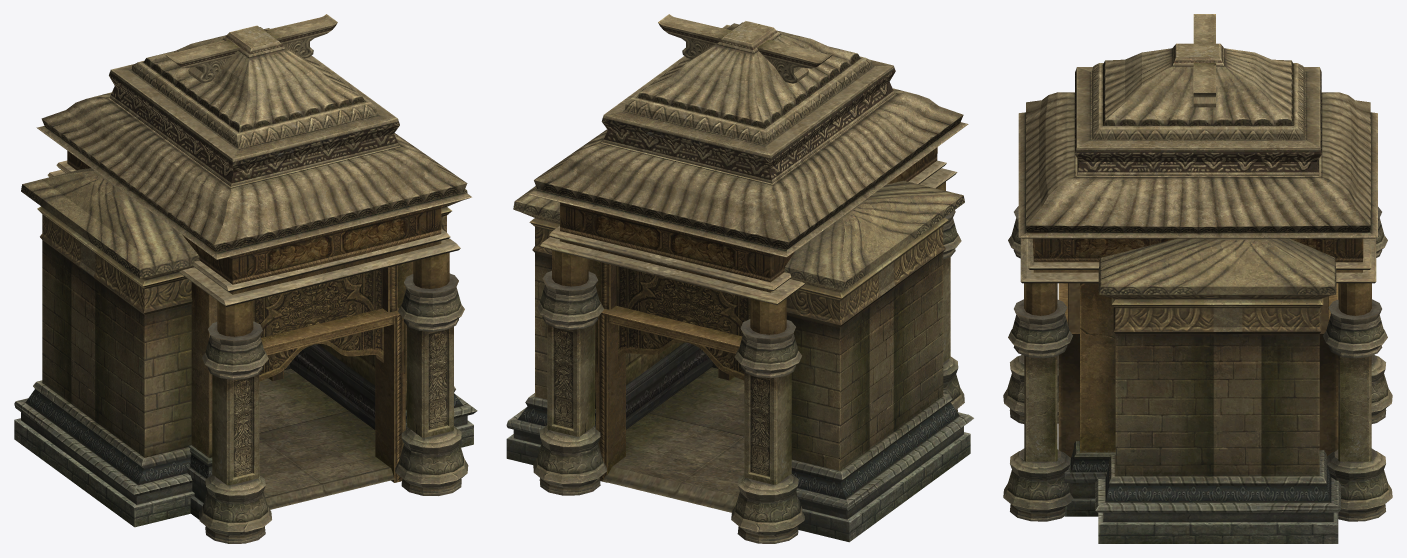
Rendered from thunder_ruins_gate00.glb.
The picture shows the model from 3 angles, left to right: view 1: azimuth 30°, elevation 25°; view 2: azimuth 150°, elevation 25°; view 3: azimuth 270°, elevation 25°; orthographic projection.
Visible parts, largest first — view 1: gate_1, gate_2; view 2: gate_1, gate_2; view 3: gate_1, gate_2.
Part boxes in pixels (x1,y1,x2,y2): gate_1: (36,14,471,543); gate_2: (14,168,477,527); gate_1: (529,14,968,543); gate_2: (506,180,973,542); gate_1: (1003,14,1392,521); gate_2: (1095,238,1340,543).
Size of the model in its own units: 30.89 by 35.42 by 30.41.
Materials: 2 (2 with a texture image).
